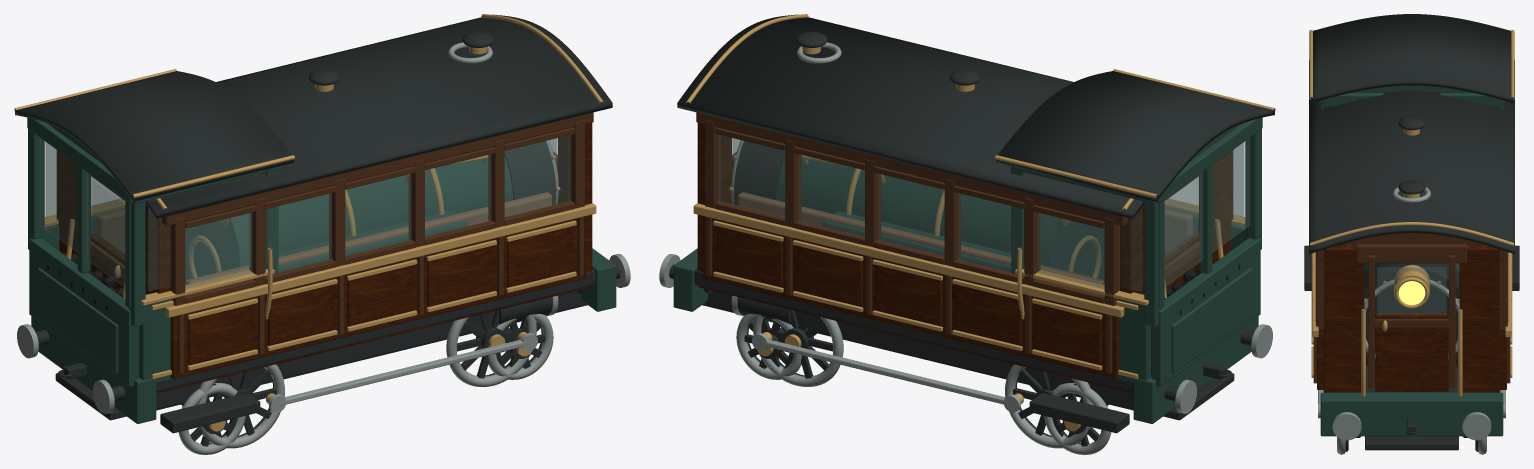
Rendered from train-v1.glb.
The picture shows the model from 3 angles, left to right: view 1: azimuth 30°, elevation 25°; view 2: azimuth 150°, elevation 25°; view 3: azimuth 270°, elevation 25°; orthographic projection. The views are drawn at different scales.
Visible parts, largest first — view 1: Coach_Train_blackened_iron, Locomotive_Train_deep_green_enamel, Locomotive_Train_blackened_iron, Coach_Train_walnut_panels, Coach_Train_clear_smoky_glass, Coach_Train_dark_walnut_frames, Locomotive_Train_clear_smoky_glass, Coach_Train_satin_brass, Locomotive_Train_satin_brass, Coach_Train_upholstered_seats, Locomotive_Train_worn_running_steel, Locomotive_Rod_Right_Train_worn_running_steel (+7 smaller); view 2: Coach_Train_blackened_iron, Locomotive_Train_deep_green_enamel, Locomotive_Train_blackened_iron, Coach_Train_walnut_panels, Coach_Train_clear_smoky_glass, Coach_Train_dark_walnut_frames, Locomotive_Train_clear_smoky_glass, Coach_Train_satin_brass, Locomotive_Train_satin_brass, Coach_Train_upholstered_seats, Locomotive_Train_worn_running_steel, Locomotive_Rod_Left_Train_worn_running_steel (+7 smaller); view 3: Coach_Train_blackened_iron, Locomotive_Train_blackened_iron, Coach_Train_walnut_panels, Locomotive_Train_deep_green_enamel, Coach_Train_dark_walnut_frames, Coach_Train_satin_brass, Coach_Train_clear_smoky_glass, Locomotive_Train_worn_running_steel, Locomotive_Train_satin_brass, Locomotive_Train_warm_lamp_glass.
Part boxes in pixels (<box>): Coach_Train_blackened_iron: <box>55,14,612,420</box>; Locomotive_Train_deep_green_enamel: <box>27,117,616,423</box>; Locomotive_Train_blackened_iron: <box>15,71,620,433</box>; Coach_Train_walnut_panels: <box>56,122,592,392</box>; Coach_Train_clear_smoky_glass: <box>91,135,570,288</box>; Coach_Train_dark_walnut_frames: <box>75,112,593,373</box>; Locomotive_Train_clear_smoky_glass: <box>40,138,259,291</box>; Coach_Train_satin_brass: <box>66,14,603,370</box>; Locomotive_Train_satin_brass: <box>14,69,560,378</box>; Coach_Train_upholstered_seats: <box>97,192,551,284</box>; Locomotive_Train_worn_running_steel: <box>17,42,630,413</box>; Locomotive_Rod_Right_Train_worn_running_steel: <box>268,333,534,410</box>; Coach_Train_blackened_iron: <box>677,14,1234,420</box>; Locomotive_Train_deep_green_enamel: <box>673,117,1262,423</box>; Locomotive_Train_blackened_iron: <box>669,71,1274,433</box>; Coach_Train_walnut_panels: <box>697,122,1233,392</box>; Coach_Train_clear_smoky_glass: <box>719,135,1198,288</box>; Coach_Train_dark_walnut_frames: <box>696,112,1214,373</box>; Locomotive_Train_clear_smoky_glass: <box>1030,138,1249,291</box>; Coach_Train_satin_brass: <box>686,14,1223,370</box>; Locomotive_Train_satin_brass: <box>729,69,1275,378</box>; Coach_Train_upholstered_seats: <box>738,192,1192,284</box>; Locomotive_Train_worn_running_steel: <box>659,42,1272,413</box>; Locomotive_Rod_Left_Train_worn_running_steel: <box>755,333,1021,410</box>; Coach_Train_blackened_iron: <box>1309,60,1514,450</box>; Locomotive_Train_blackened_iron: <box>1304,14,1519,437</box>; Coach_Train_walnut_panels: <box>1317,244,1506,392</box>; Locomotive_Train_deep_green_enamel: <box>1319,85,1504,436</box>; Coach_Train_dark_walnut_frames: <box>1313,233,1510,387</box>; Coach_Train_satin_brass: <box>1310,129,1513,396</box>; Coach_Train_clear_smoky_glass: <box>1377,267,1446,314</box>; Locomotive_Train_worn_running_steel: <box>1332,187,1491,440</box>; Locomotive_Train_satin_brass: <box>1309,30,1514,351</box>; Locomotive_Train_warm_lamp_glass: <box>1398,281,1425,305</box>.
Size of the model in its own units: 3.8 by 2.15 by 1.56.
10 materials, 1 textured.
